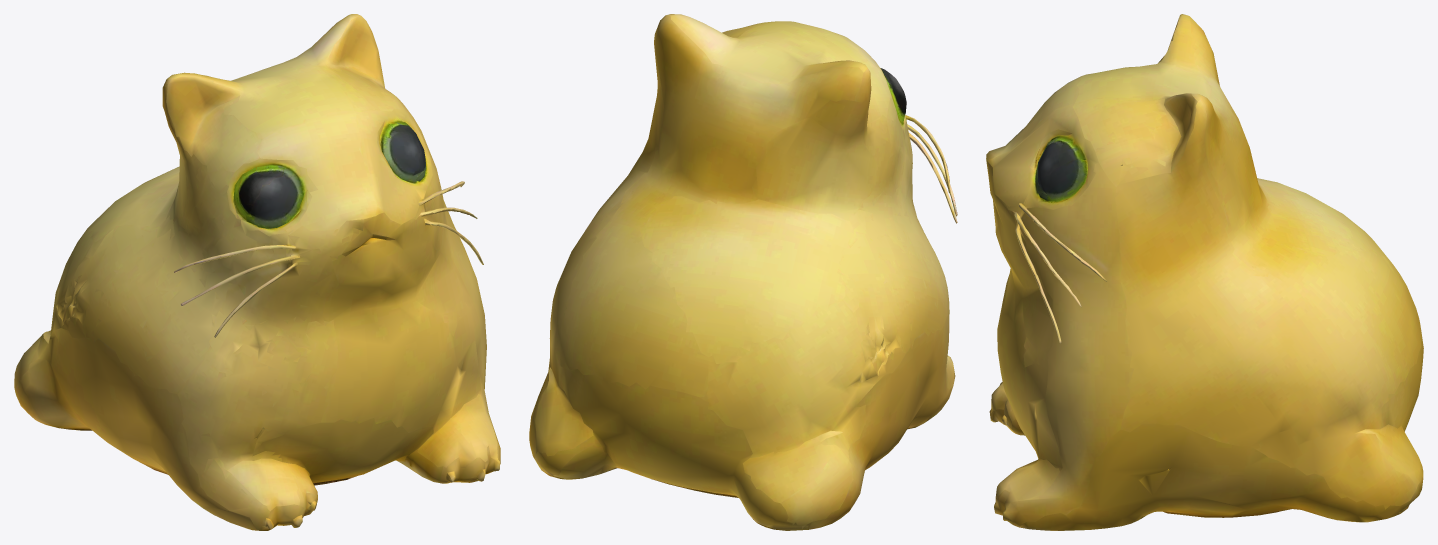
Rendered from naiwa_naimao_runtime.glb.
3 views of the same model, side by side, from view 1: azimuth 30°, elevation 25°; view 2: azimuth 150°, elevation 25°; view 3: azimuth 270°, elevation 25° (orthographic). The views are drawn at different scales.
Visible parts, largest first — view 1: geometry_0; view 2: geometry_0; view 3: geometry_0.
Boxes of the visible parts, x1,y1,x2,y2 form: geometry_0: [14, 14, 500, 530]; geometry_0: [529, 14, 957, 530]; geometry_0: [986, 14, 1423, 530].
Bounding box in the file's own units: 0.1798 × 0.2019 × 0.1955.
Materials: 1 (1 with a texture image).
